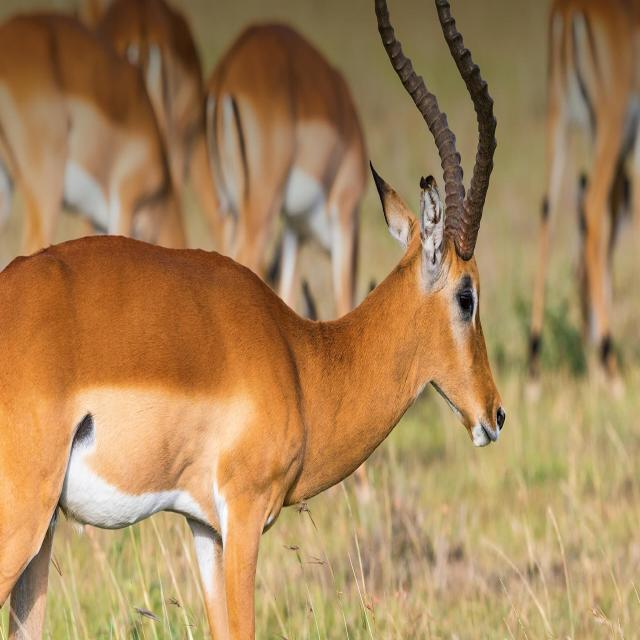Antelope: (0, 0, 514, 640), (204, 10, 375, 312)
